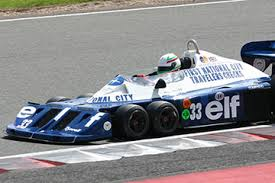f1_car: (1, 32, 275, 151)
